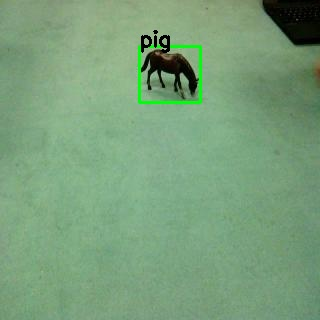horse: (137, 49, 207, 101)
